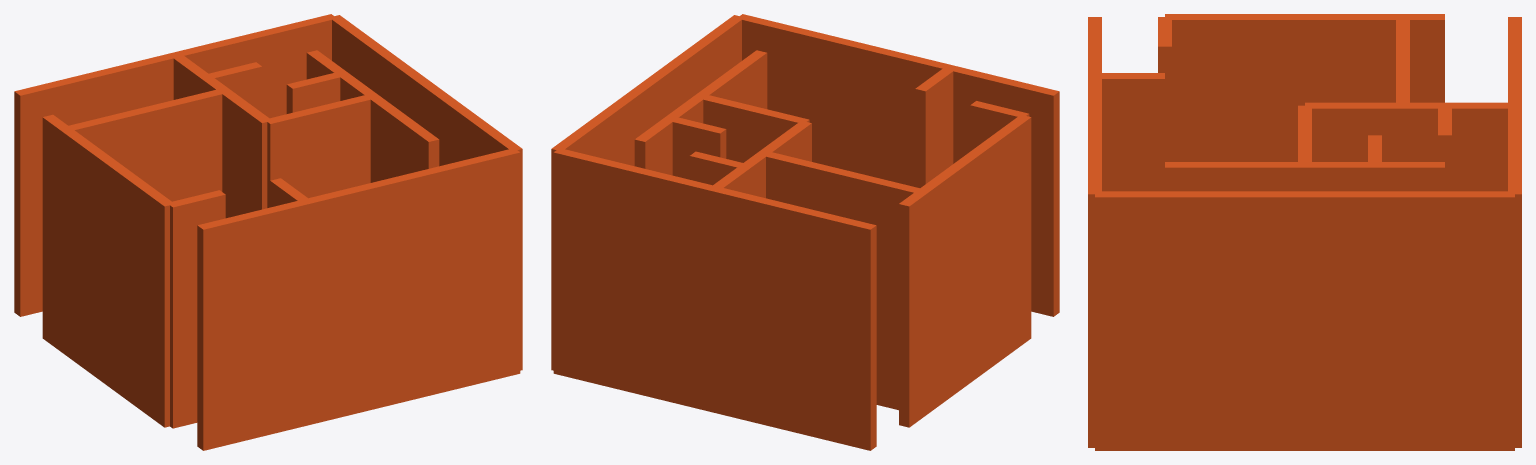
Rendered from Maze 3 Walls.fbx.
3 views of the same model, side by side, from view 1: azimuth 30°, elevation 25°; view 2: azimuth 150°, elevation 25°; view 3: azimuth 270°, elevation 25° (orthographic). The views are drawn at different scales.
Parts seen in each view (by area): view 1: Cube.102, Cube.100, Cube.101, Cube.099, Cube.103, Cube.104, Cube.069, Cube.077, Cube.061, Cube.081, Cube.068, Cube.067 (+26 smaller); view 2: Cube.077, Cube.058, Cube.094, Cube.078, Cube.079, Cube.044, Cube.061, Cube.102, Cube.069, Cube.068, Cube.081, Cube.099 (+26 smaller); view 3: Cube.090, Cube.091, Cube.092, Cube.093, Cube.097, Cube.098, Cube.068, Cube.069, Cube.105, Cube.081, Cube.089, Cube.061 (+11 smaller).
Boxes of the visible parts, x1=… form: Cube.102: x1=197, y1=212, x2=256, y2=450; Cube.100: x1=409, y1=161, x2=467, y2=399; Cube.101: x1=462, y1=149, x2=520, y2=386; Cube.099: x1=356, y1=174, x2=414, y2=412; Cube.103: x1=250, y1=199, x2=308, y2=437; Cube.104: x1=304, y1=186, x2=361, y2=424; Cube.069: x1=134, y1=181, x2=174, y2=427; Cube.077: x1=14, y1=78, x2=73, y2=316; Cube.061: x1=42, y1=114, x2=82, y2=360; Cube.081: x1=73, y1=137, x2=113, y2=382; Cube.068: x1=103, y1=159, x2=143, y2=404; Cube.067: x1=170, y1=190, x2=225, y2=428; Cube.077: x1=817, y1=212, x2=876, y2=450; Cube.058: x1=606, y1=161, x2=664, y2=399; Cube.094: x1=553, y1=149, x2=611, y2=386; Cube.078: x1=765, y1=199, x2=823, y2=437; Cube.079: x1=712, y1=186, x2=770, y2=424; Cube.044: x1=659, y1=174, x2=714, y2=412; Cube.061: x1=899, y1=181, x2=939, y2=427; Cube.102: x1=1000, y1=78, x2=1059, y2=316; Cube.069: x1=991, y1=114, x2=1031, y2=360; Cube.068: x1=960, y1=137, x2=1000, y2=382; Cube.081: x1=930, y1=159, x2=970, y2=404; Cube.099: x1=842, y1=40, x2=900, y2=181; Cube.090: x1=1445, y1=191, x2=1514, y2=450; Cube.091: x1=1375, y1=191, x2=1444, y2=450; Cube.092: x1=1305, y1=191, x2=1374, y2=450; Cube.093: x1=1235, y1=191, x2=1304, y2=450; Cube.097: x1=1165, y1=191, x2=1234, y2=450; Cube.098: x1=1095, y1=191, x2=1164, y2=450; Cube.068: x1=1235, y1=14, x2=1304, y2=161; Cube.069: x1=1165, y1=14, x2=1234, y2=161; Cube.105: x1=1095, y1=73, x2=1164, y2=191; Cube.081: x1=1305, y1=14, x2=1374, y2=102; Cube.089: x1=1445, y1=102, x2=1514, y2=191; Cube.061: x1=1375, y1=14, x2=1444, y2=102.
Bounding box in the file's own units: 310 × 200 × 310.
